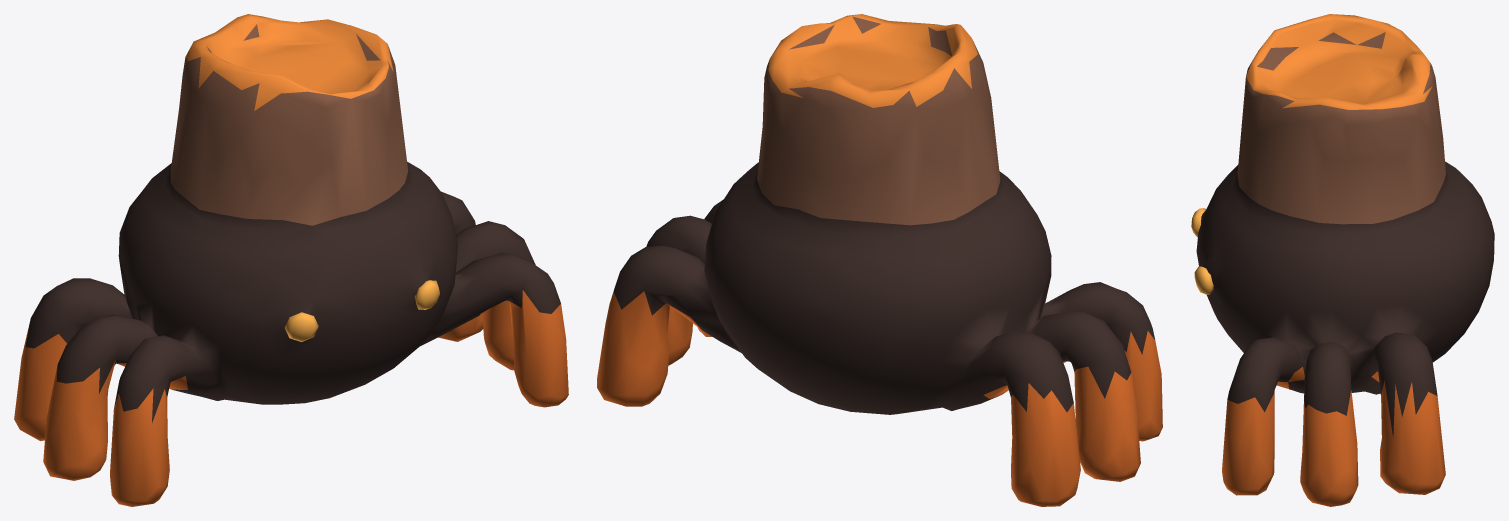
Rendered from ravager.glb.
3 views of the same model, side by side, from view 1: azimuth 30°, elevation 25°; view 2: azimuth 150°, elevation 25°; view 3: azimuth 270°, elevation 25° (orthographic). The views are drawn at different scales.
Parts seen in each view (by area): view 1: ravager, ravager_face; view 2: ravager; view 3: ravager, ravager_face.
Part boxes in pixels (x1=…): ravager: x1=14, y1=14, x2=568, y2=506; ravager_face: x1=284, y1=280, x2=439, y2=341; ravager: x1=597, y1=14, x2=1162, y2=506; ravager: x1=1196, y1=14, x2=1494, y2=506; ravager_face: x1=1191, y1=208, x2=1213, y2=294.
Size of the model in its own units: 2.2 by 1.6 by 1.25.
